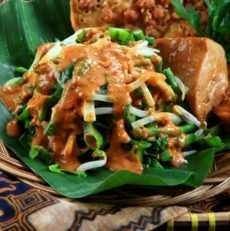pecel: (6, 35, 221, 196)
